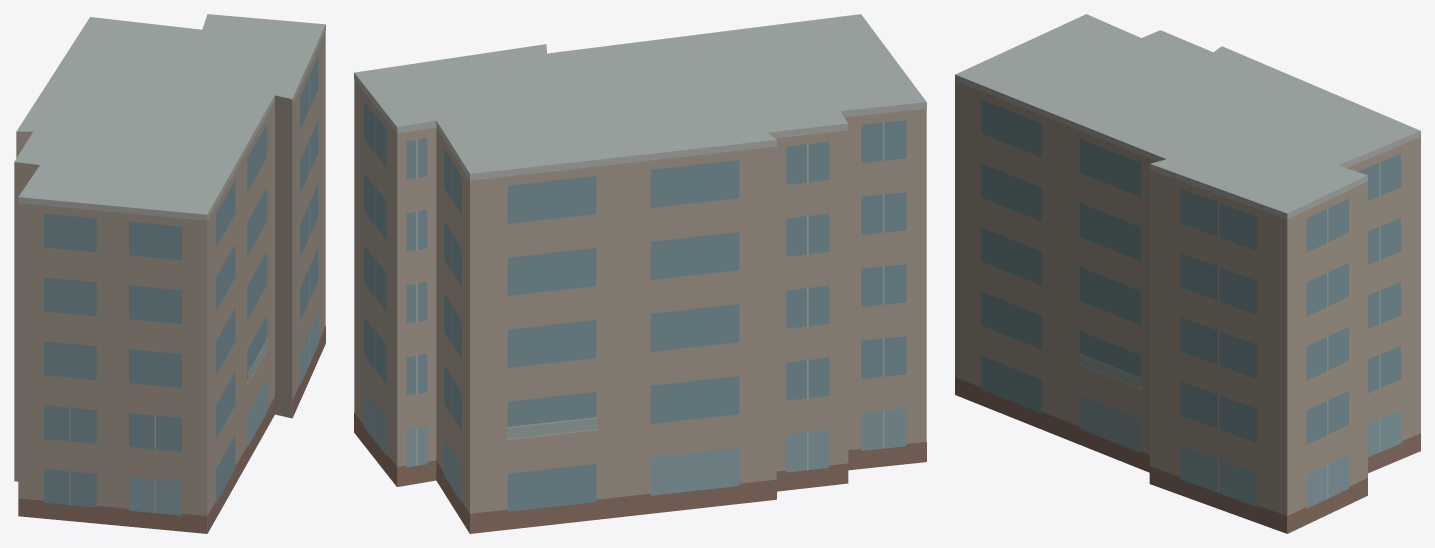
File: survey-upis-32960623.glb
3 renders of one model, left to right at view 1: azimuth 30°, elevation 25°; view 2: azimuth 150°, elevation 25°; view 3: azimuth 270°, elevation 25°, orthographic. The views are drawn at different scales.
Visible parts, largest first — view 1: survey-upis-32960623.tmp; view 2: survey-upis-32960623.tmp; view 3: survey-upis-32960623.tmp.
Boxes of the visible parts, <box> form: survey-upis-32960623.tmp: <box>14,14,325,533</box>; survey-upis-32960623.tmp: <box>354,14,926,533</box>; survey-upis-32960623.tmp: <box>955,14,1420,533</box>.
Size of the model in its own units: 17.39 by 13 by 17.14.
